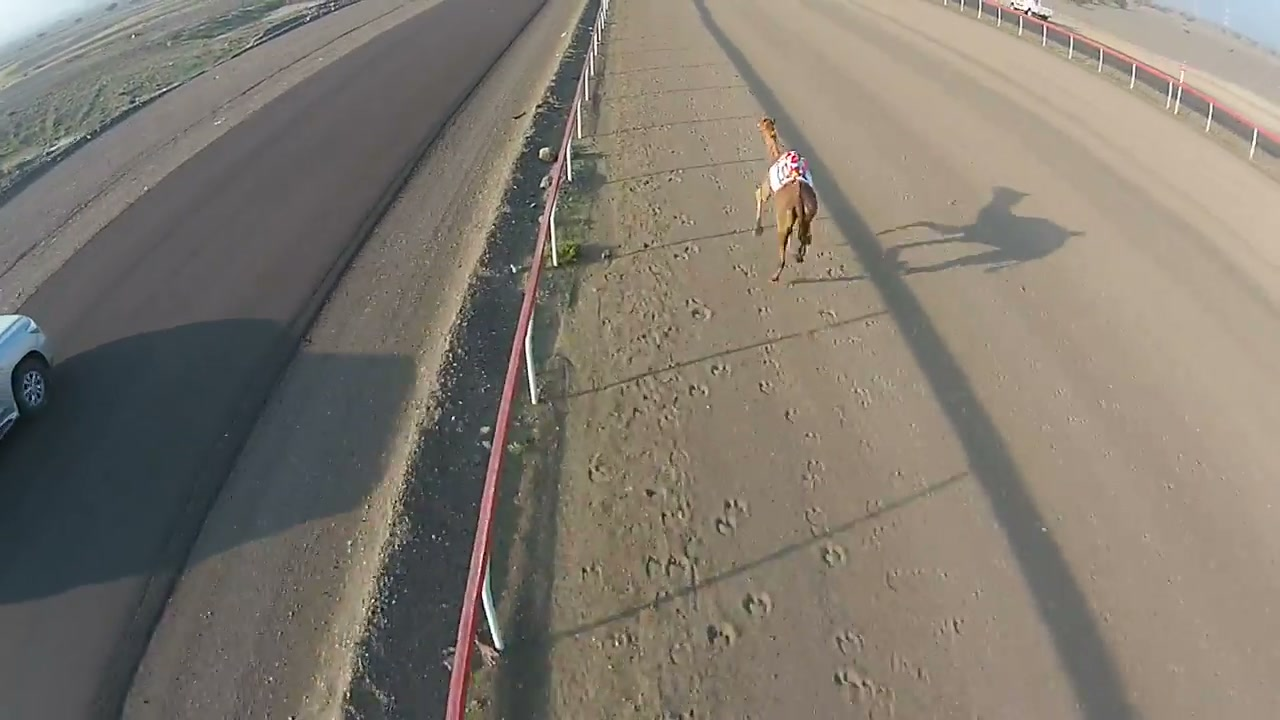animal_footprint: (756, 262, 906, 704), (655, 173, 784, 657)
